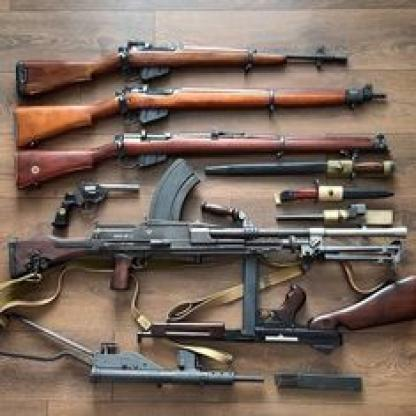Gun: (5, 157, 410, 293), (135, 251, 416, 357), (12, 79, 390, 150), (14, 124, 392, 193), (0, 308, 267, 392), (14, 36, 352, 102)
Knife: (202, 157, 398, 183), (273, 178, 398, 206)
Pistol: (52, 177, 142, 230)
